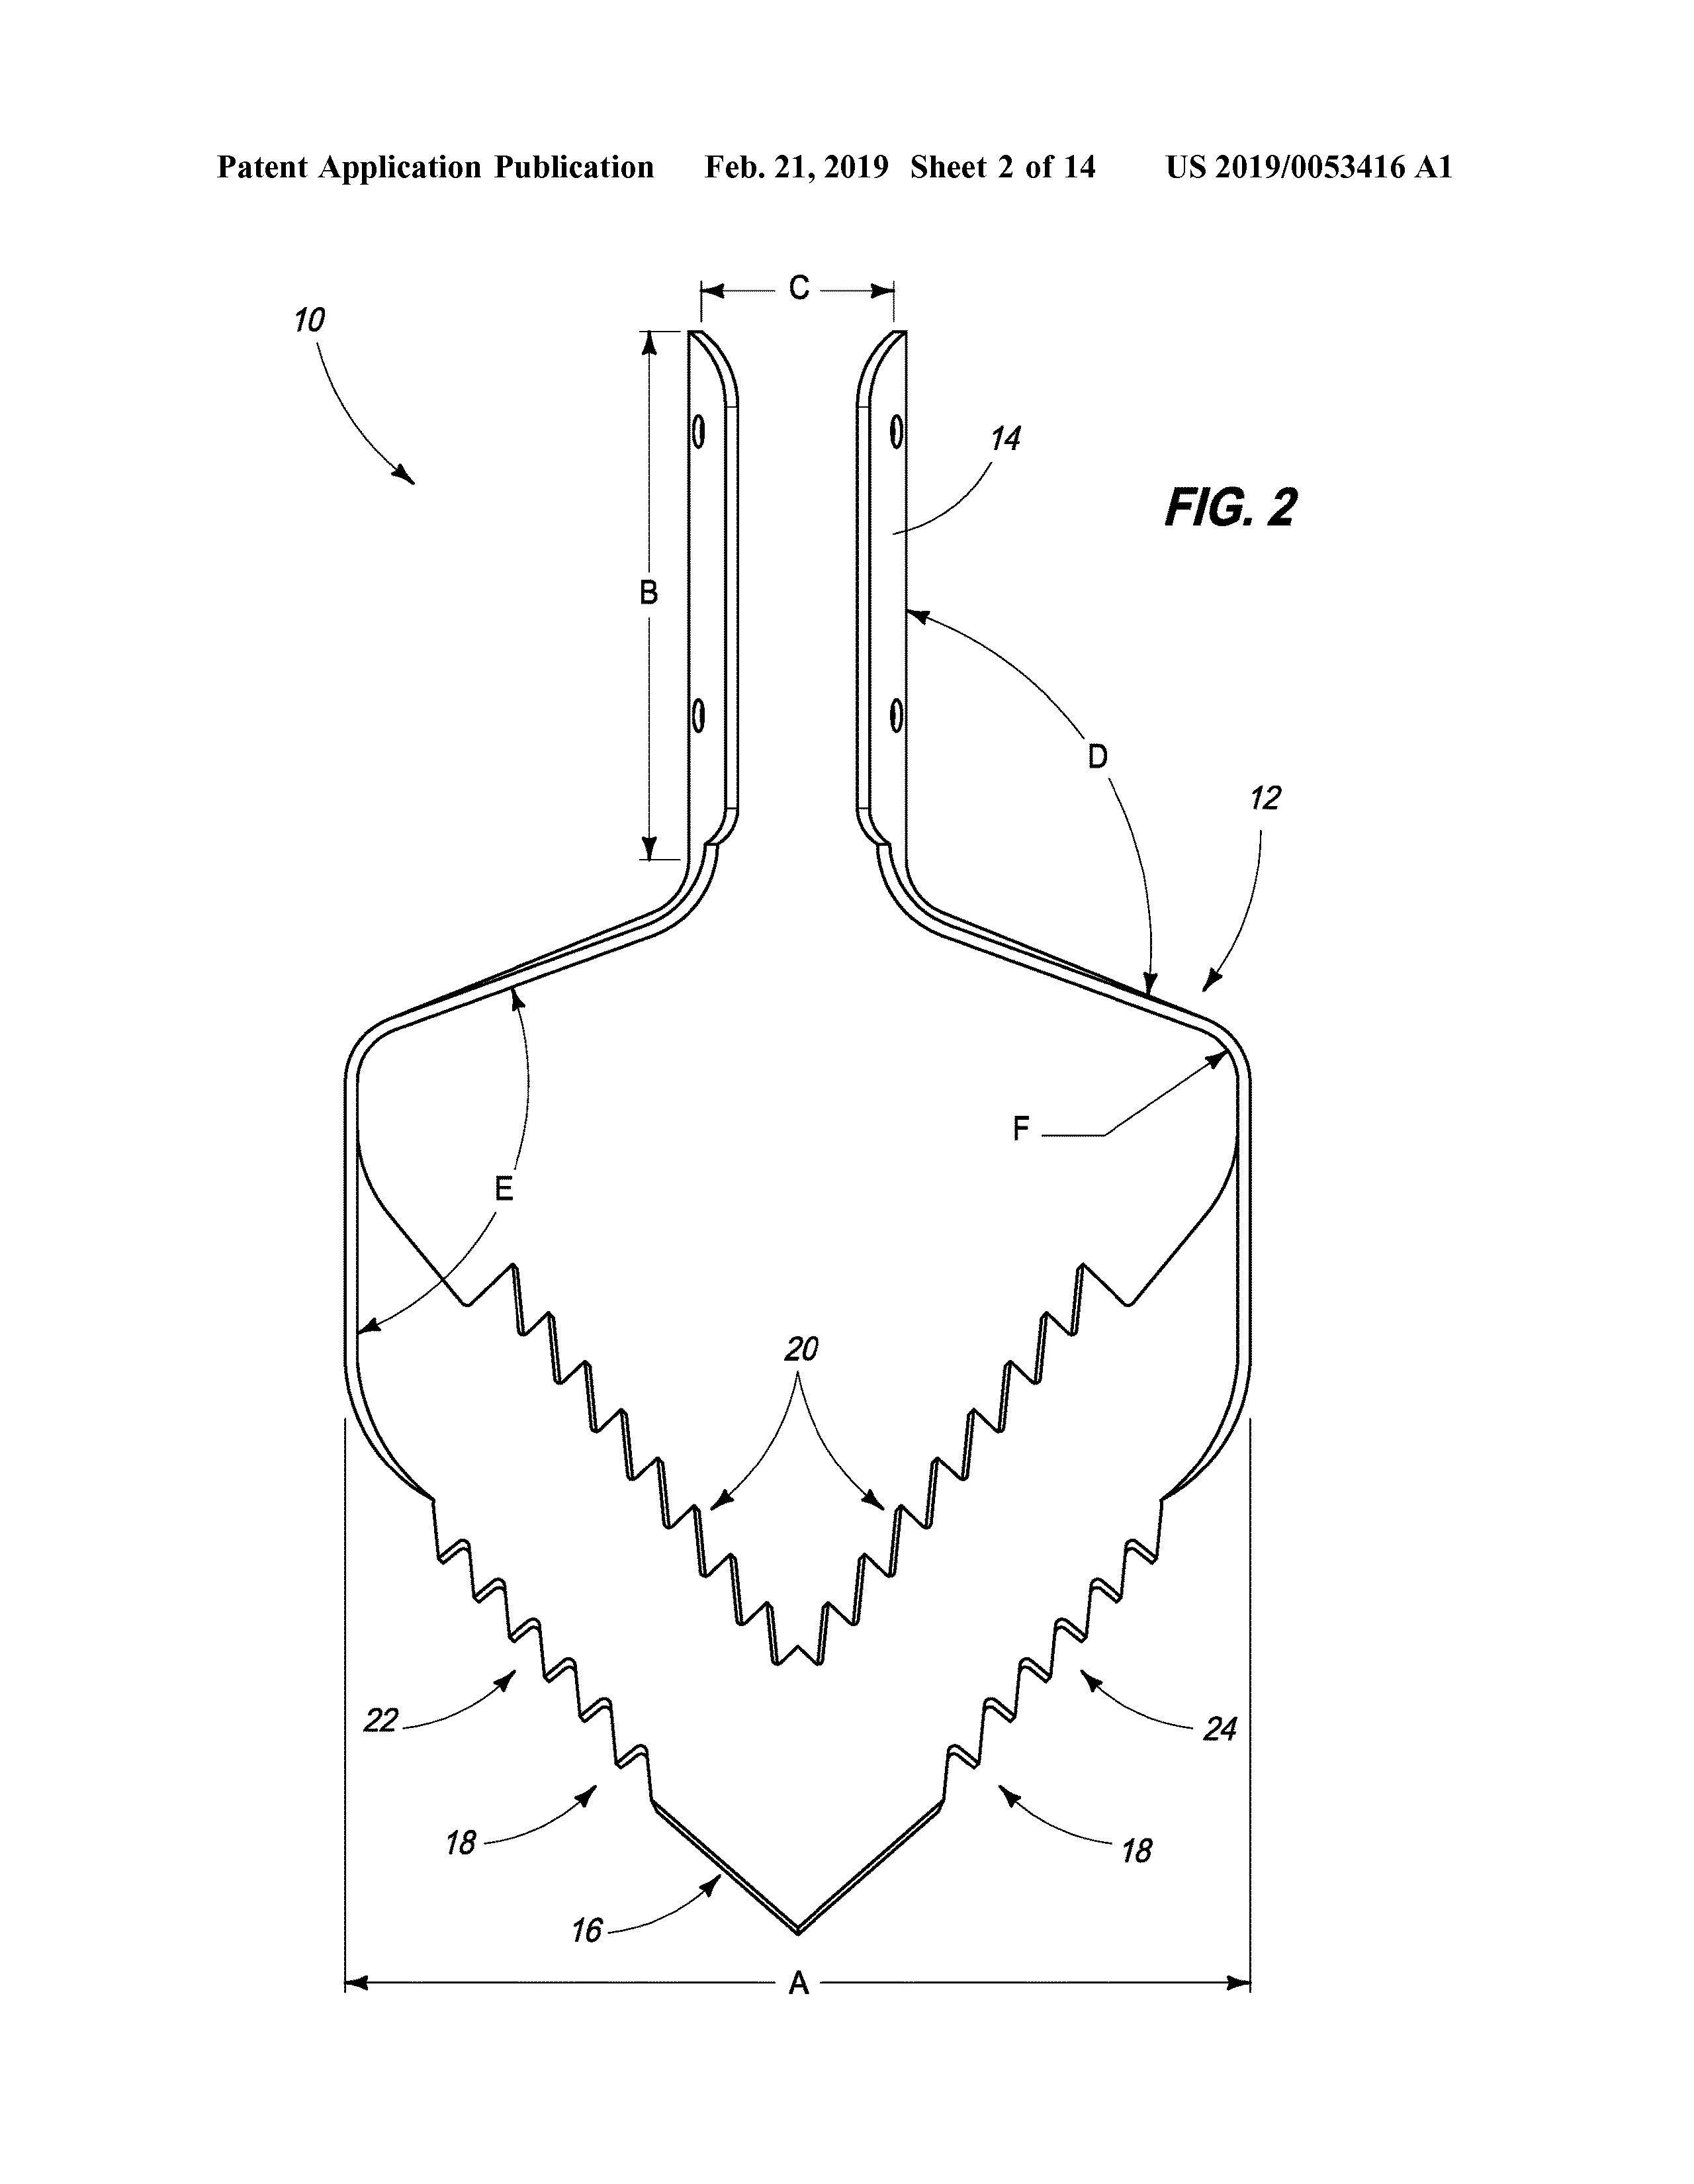10: (291, 294, 338, 346), (780, 1326, 828, 1377)
12: (1244, 775, 1294, 826)
14: (983, 411, 1031, 463)
16: (563, 1899, 611, 1957)
18: (1113, 1824, 1161, 1876), (439, 1819, 487, 1870)
22: (353, 1695, 411, 1744)
24: (1198, 1704, 1251, 1753)
A: (771, 1959, 819, 2008)
B: (624, 564, 672, 613)
C: (774, 261, 822, 312)
D: (1074, 734, 1123, 785)
E: (482, 1161, 530, 1213)
F: (1001, 1103, 1049, 1154)
